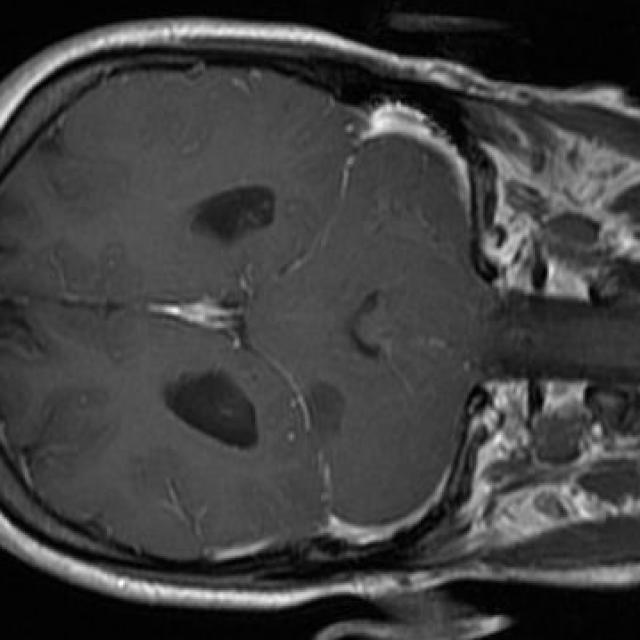glioma: (307, 382, 346, 431)
